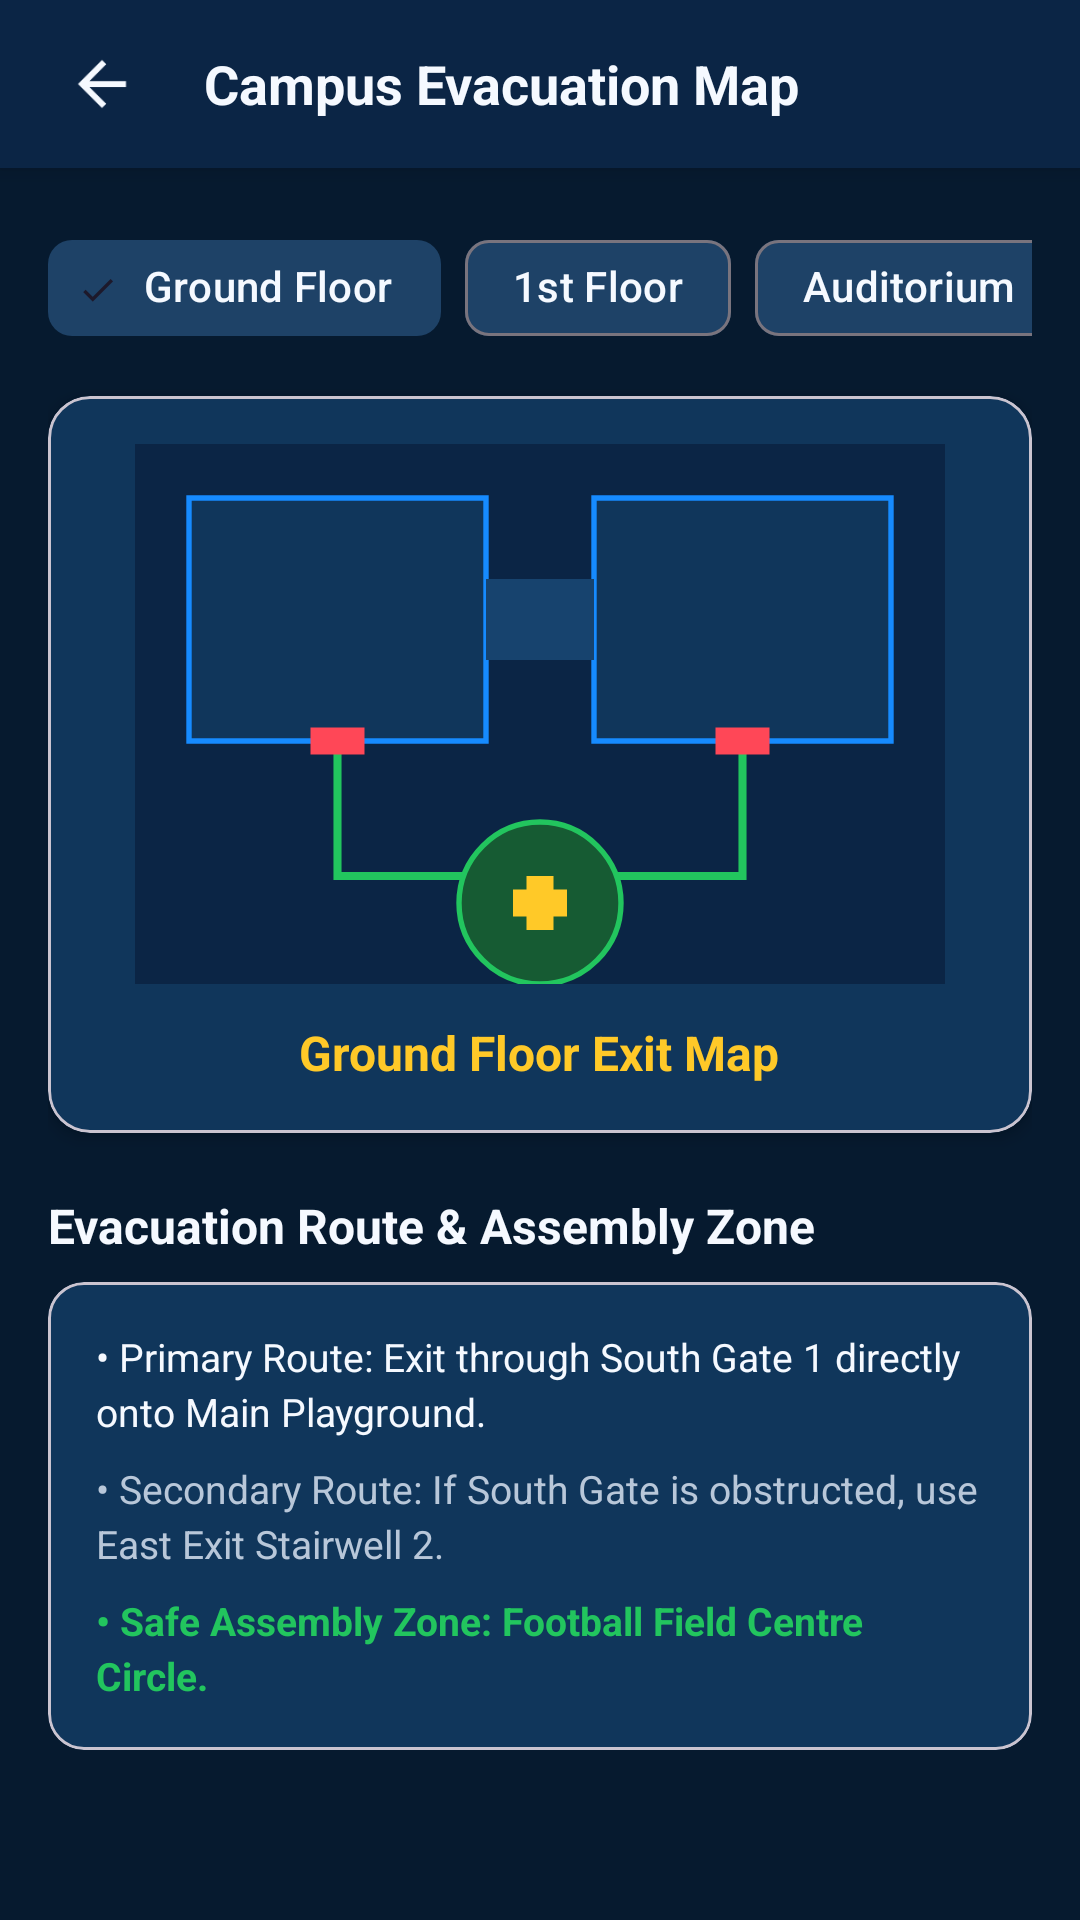

Named icons in this screenshot (1080 x 1920) and their bounding boxes, {"left": x1, "top": y1, "right": x2, "bottom": y2}:
Back: {"left": 78, "top": 60, "right": 127, "bottom": 108}
